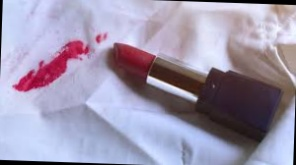lipstick: (16, 47, 90, 92), (60, 33, 99, 70), (87, 29, 109, 46)
